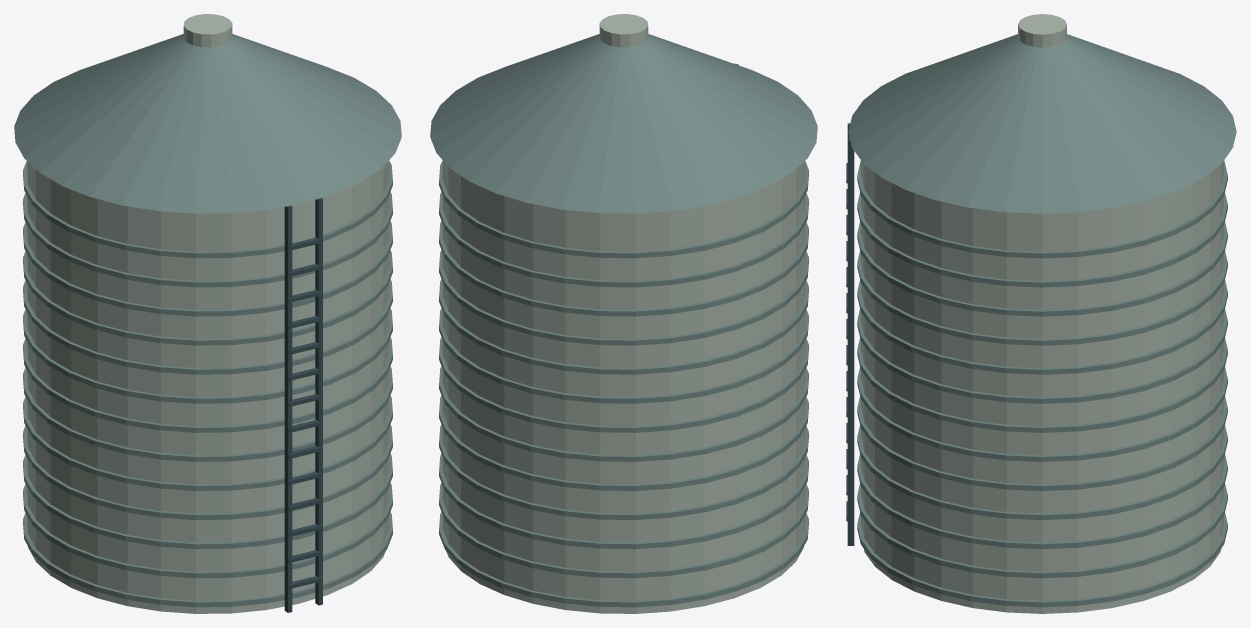
Rendered from grain_bin.glb.
3 renders of one model, left to right at view 1: azimuth 30°, elevation 25°; view 2: azimuth 150°, elevation 25°; view 3: azimuth 270°, elevation 25°, orthographic.
Parts seen in each view (by area): view 1: grain_bin; view 2: grain_bin; view 3: grain_bin.
Part boxes in pixels (box(x1,y1,x2,y2)): grain_bin: box(14, 14, 401, 613); grain_bin: box(430, 14, 817, 613); grain_bin: box(846, 14, 1236, 613).
Bounding box in the file's own units: 4.6 × 6.7 × 4.62.
